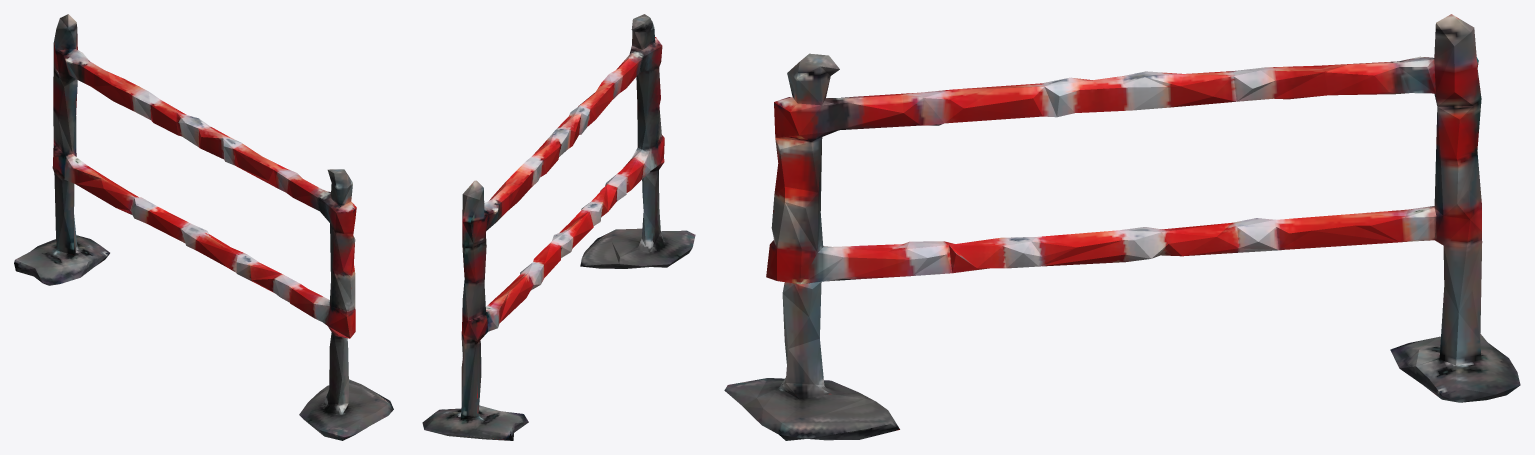
The model's file is barrier-lod1.obj.
The picture shows the model from 3 angles, left to right: view 1: azimuth 30°, elevation 25°; view 2: azimuth 150°, elevation 25°; view 3: azimuth 270°, elevation 25°; orthographic projection. The views are drawn at different scales.
Bounding box in the file's own units: 0.6017 × 1.01 × 1.99.
1 material, 1 textured.
